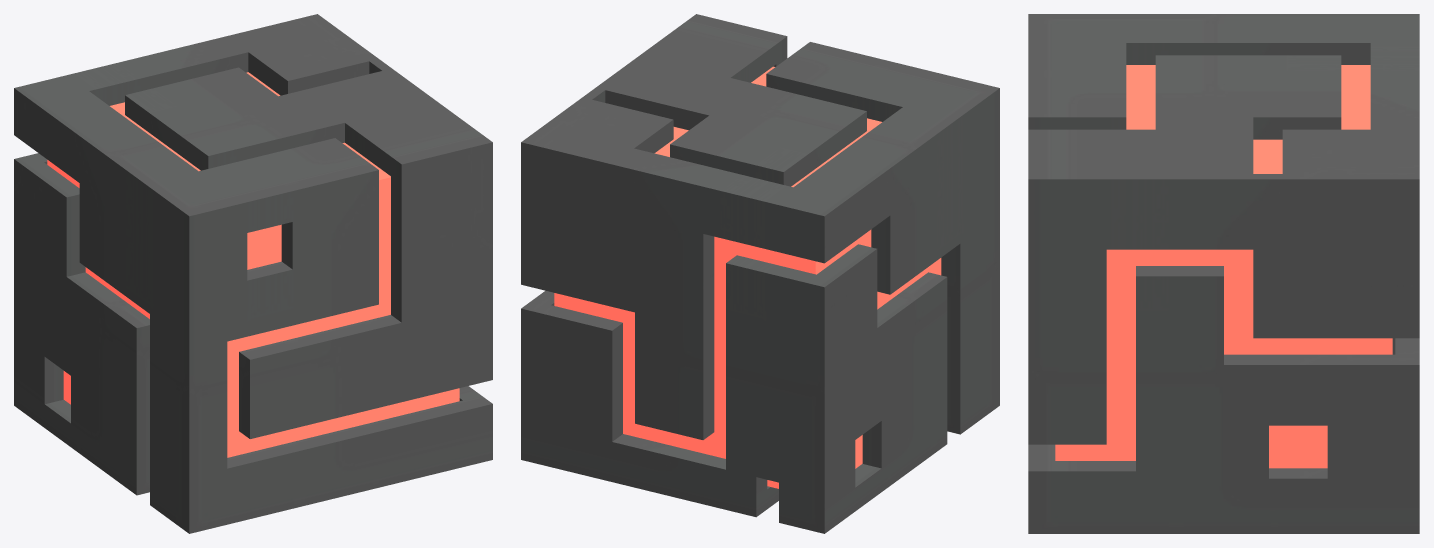
3 views of the same model, side by side, from view 1: azimuth 30°, elevation 25°; view 2: azimuth 150°, elevation 25°; view 3: azimuth 270°, elevation 25° (orthographic). The views are drawn at different scales.
Visible parts, largest first — view 1: main, light; view 2: main, light; view 3: main, light.
Part boxes in pixels (box(x1,y1,x2,y2)): main: box(14, 14, 492, 533); light: box(47, 72, 459, 457); main: box(521, 14, 999, 533); light: box(554, 66, 941, 488); main: box(1028, 14, 1419, 533); light: box(1055, 65, 1392, 468).
Size of the model in its own units: 2 by 2 by 2.
2 materials, 1 textured.
